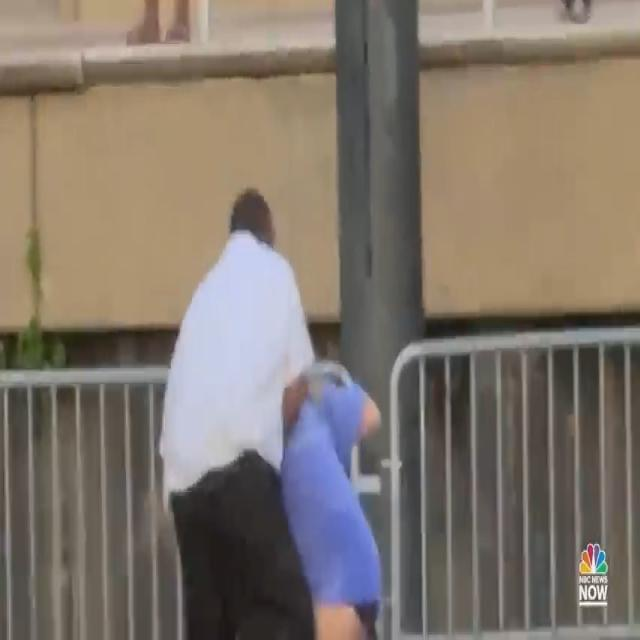fight: (156, 167, 385, 640)
